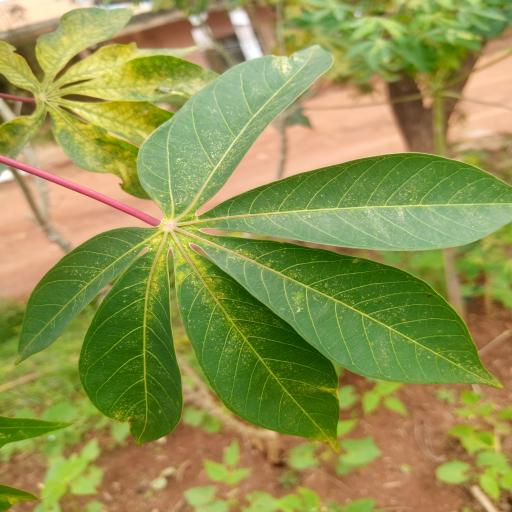Cassava_Mosaic: (11, 41, 512, 456)
